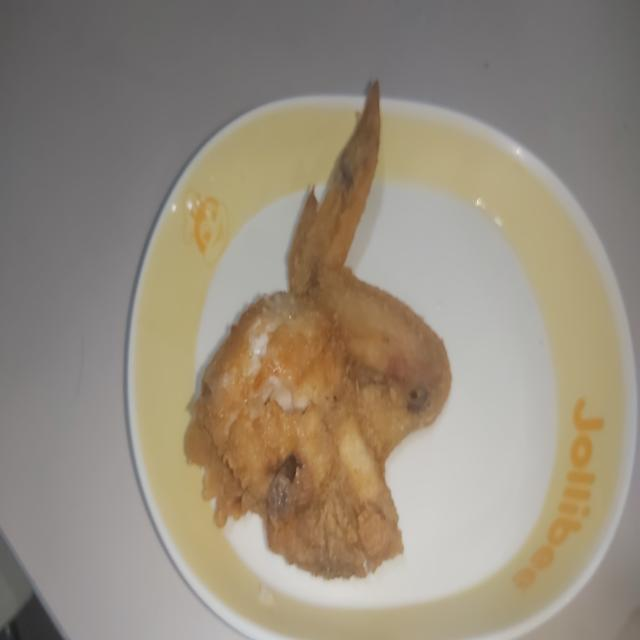Chicken -Fried Chicken-: (181, 73, 457, 583)
